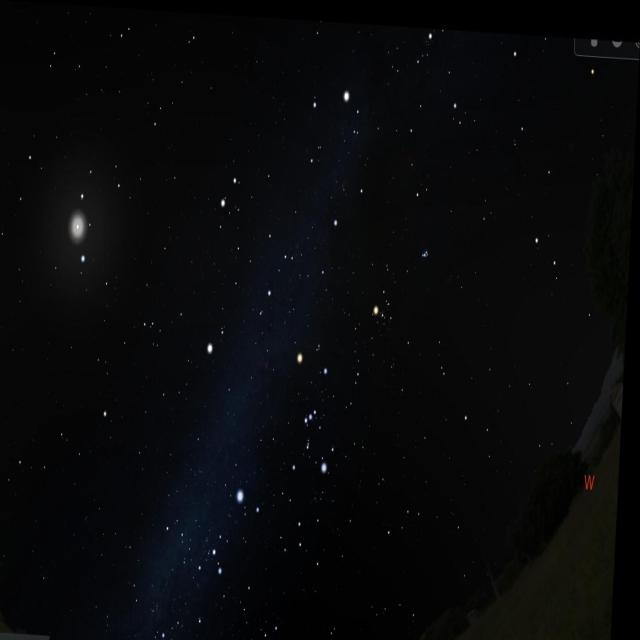canis_major: (208, 477, 271, 587)
canis_minor: (207, 312, 231, 360)
gemini: (214, 158, 302, 304)
leo: (0, 126, 134, 275)
moon: (62, 192, 100, 262)
orion: (287, 332, 344, 480)
pleiades: (418, 237, 438, 266)
taurus: (362, 214, 446, 353)
